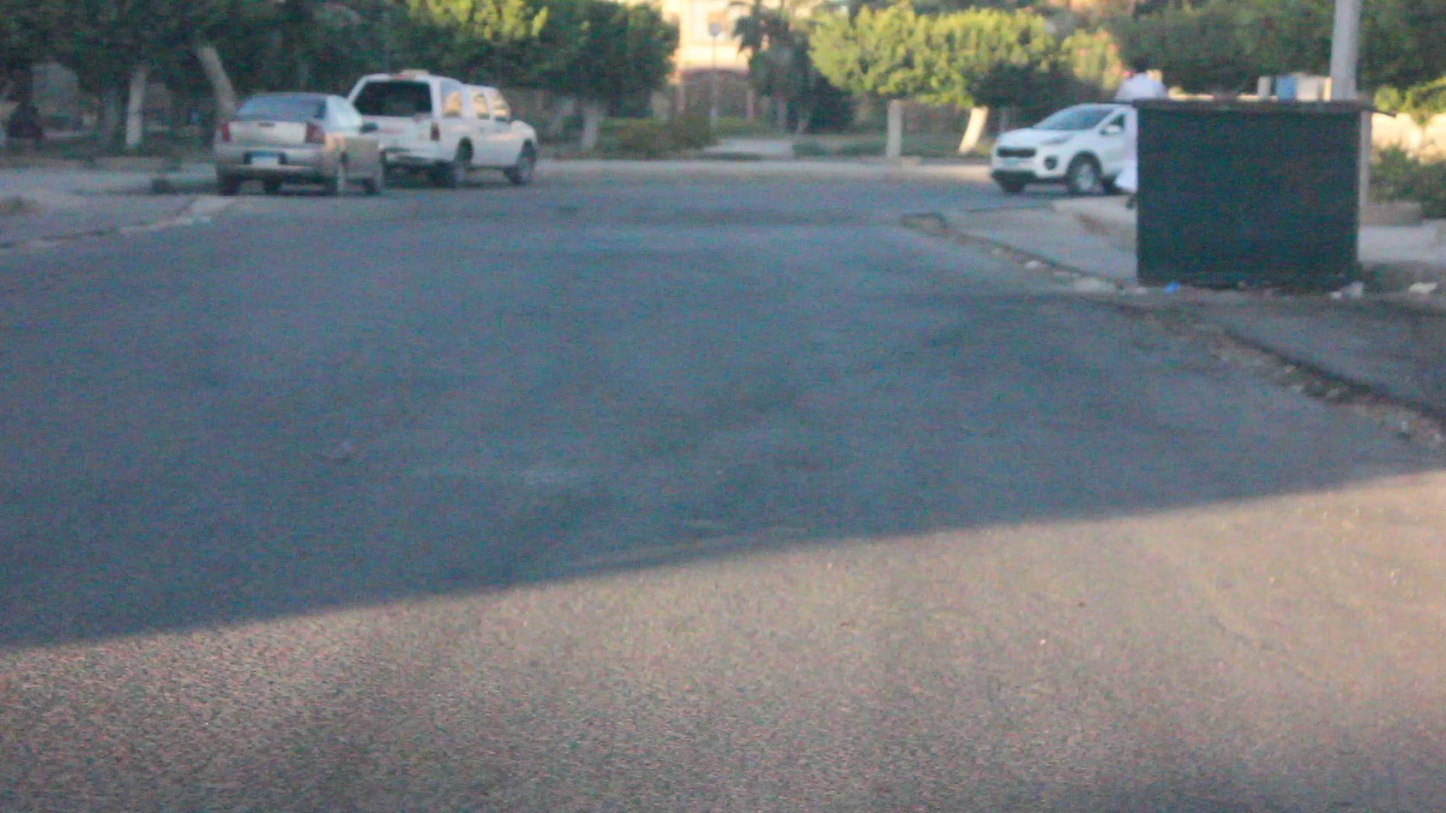Bump: (151, 184, 940, 239)
